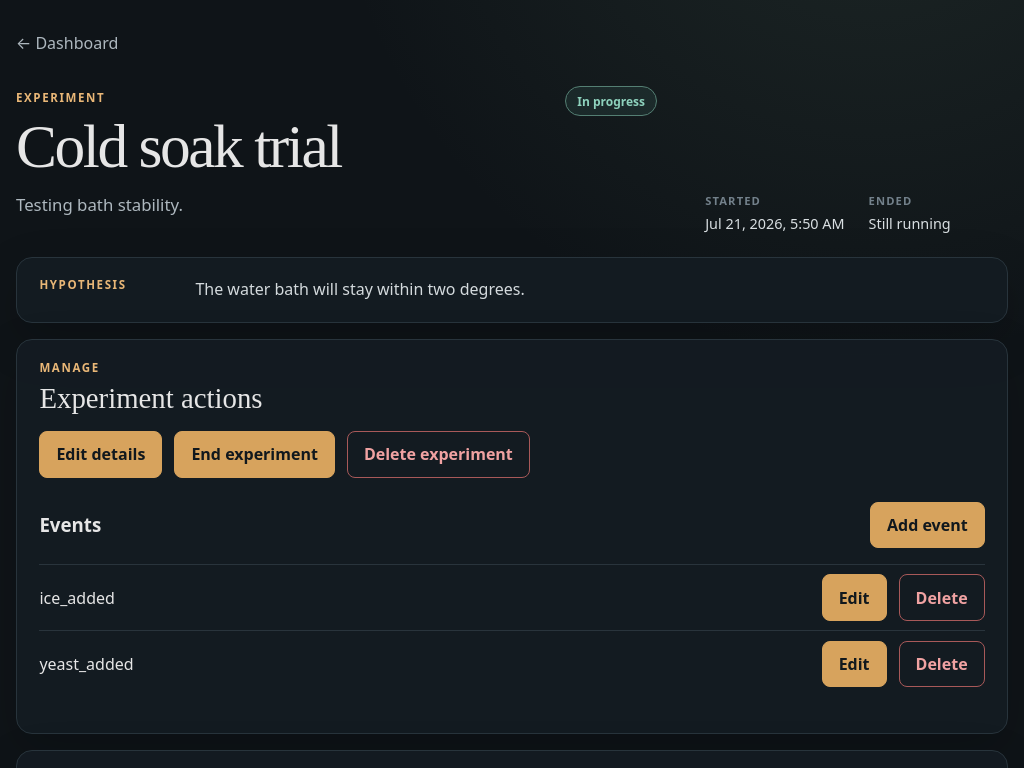
it: experiment route › resets event editor values when switching to another event
The image size is (1024, 768).
Expected: the heading "Cold soak trial" is shown, [16, 112, 341, 180]
Click the button "Edit" in the row of "ice_added": [854, 598] box [822, 574, 886, 621]
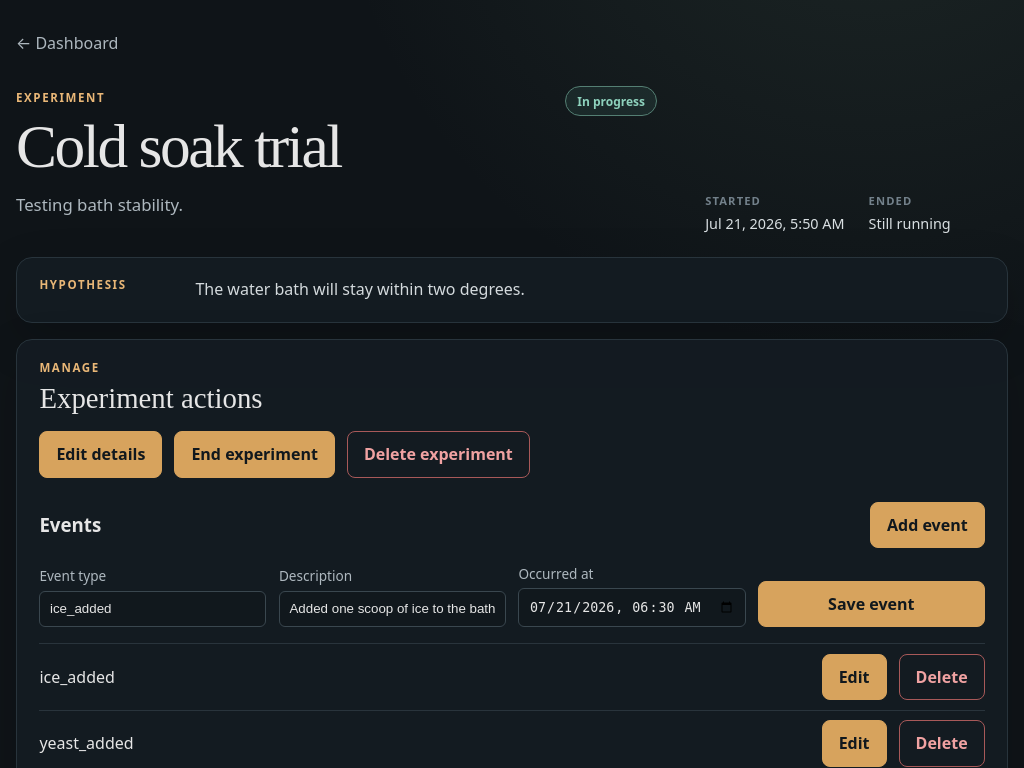
Expected: the field labelled "Event type" holds "ice_added", [39, 591, 266, 627]
Click the button "Edit" in the row of "yeast_added": [854, 743] box [822, 720, 886, 767]
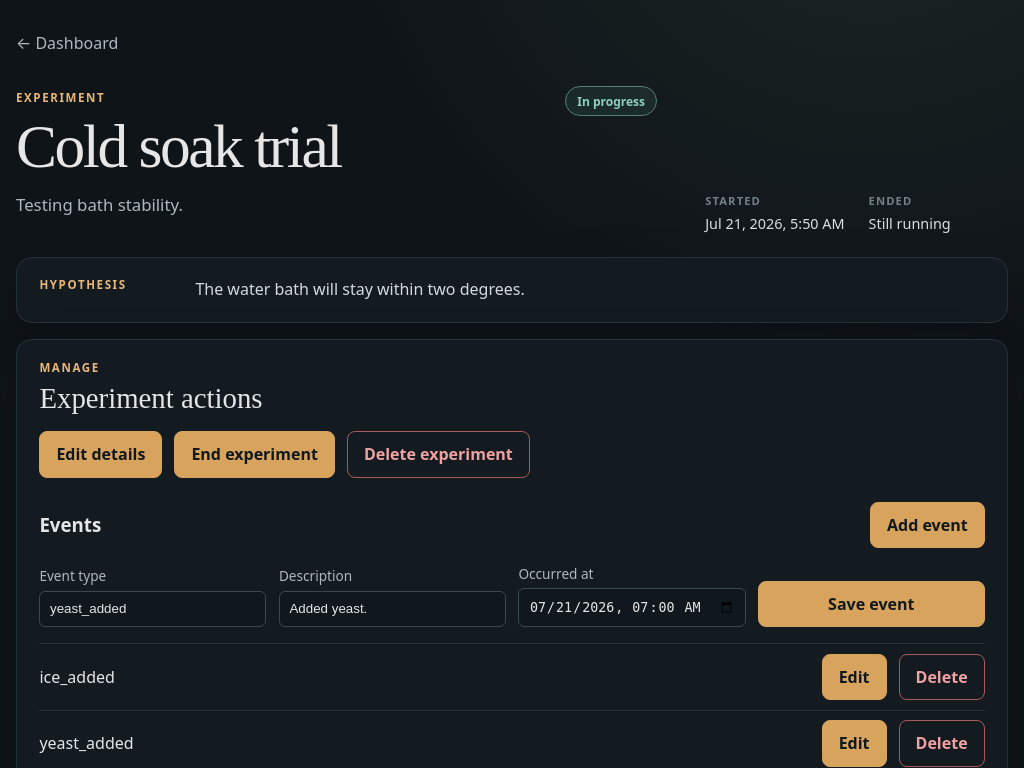
Expected: the field labelled "Event type" holds "yeast_added", [39, 591, 266, 627]
Expected: the field labelled "Description" holds "Added yeast.", [279, 591, 506, 627]
